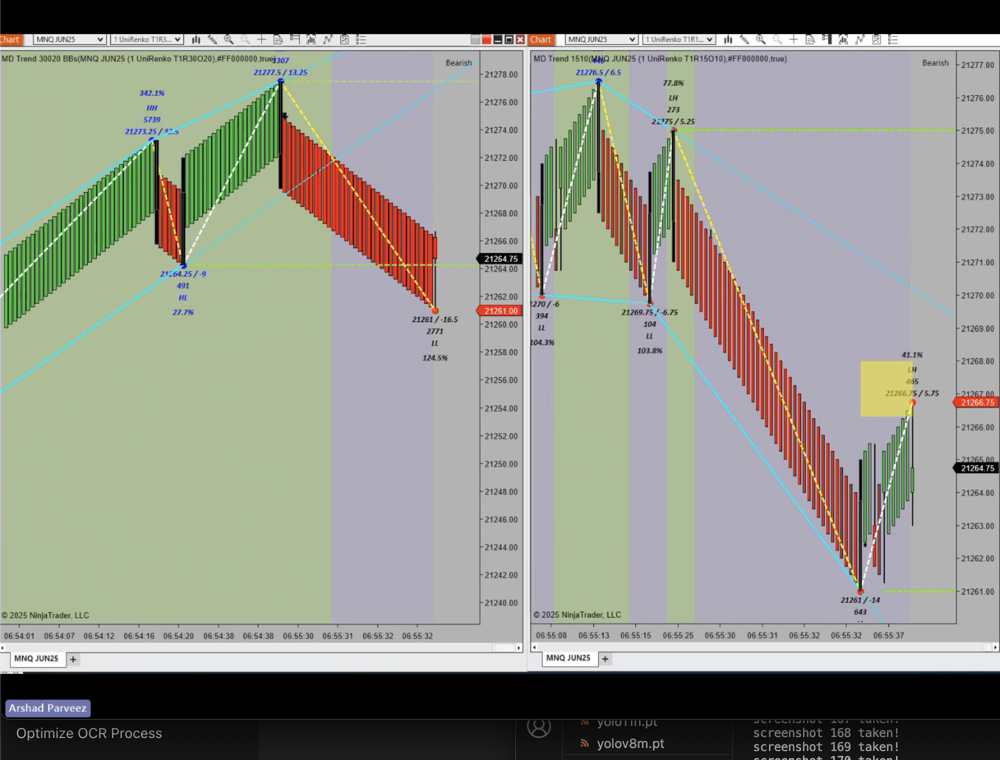HH: (140, 97, 167, 116)
HL: (170, 287, 196, 306)
LH: (662, 89, 689, 107), (903, 363, 926, 380)
LL: (640, 326, 664, 349), (533, 317, 555, 342), (428, 331, 448, 355)
